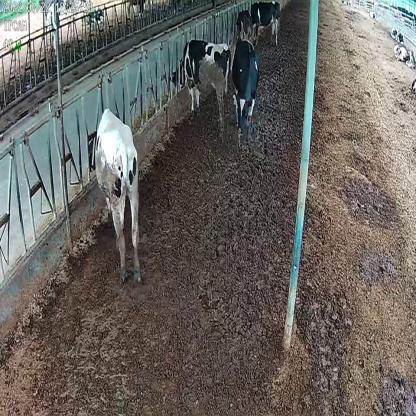cow: (87, 106, 142, 286), (169, 37, 231, 136), (230, 36, 260, 147), (252, 2, 281, 47)
